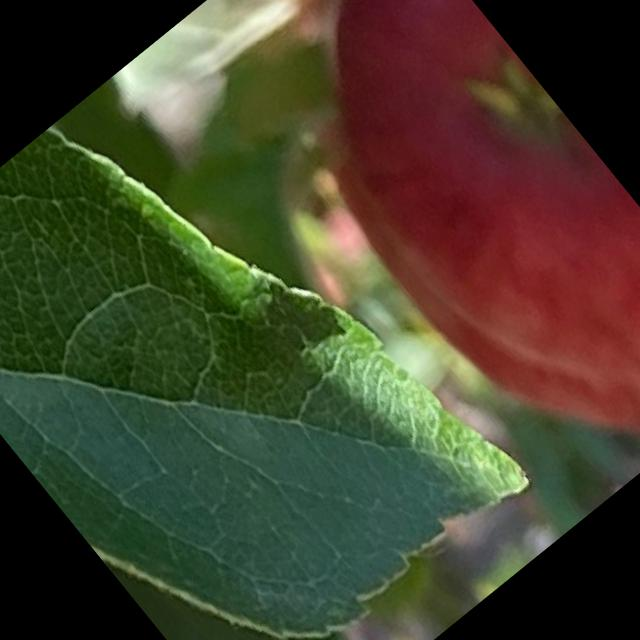Apples: (208, 0, 639, 511)
